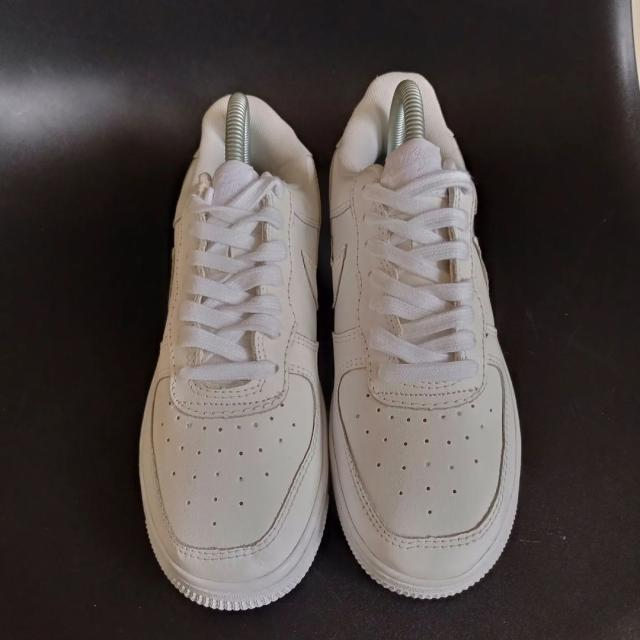nike fake air force: (328, 90, 525, 608), (132, 94, 325, 620)
